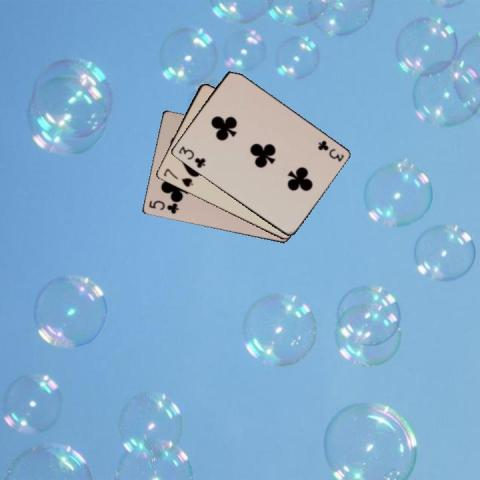3c: (175, 144, 207, 170), (314, 138, 344, 164)
5c: (146, 198, 180, 216)
7s: (160, 165, 194, 189)
